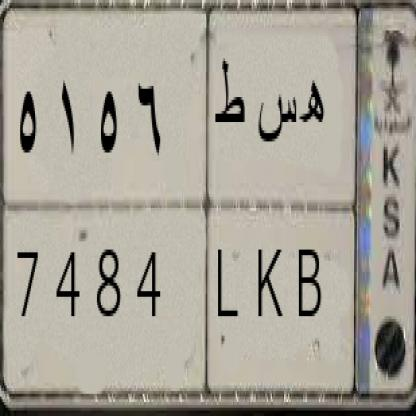english: (0, 186, 359, 408)
